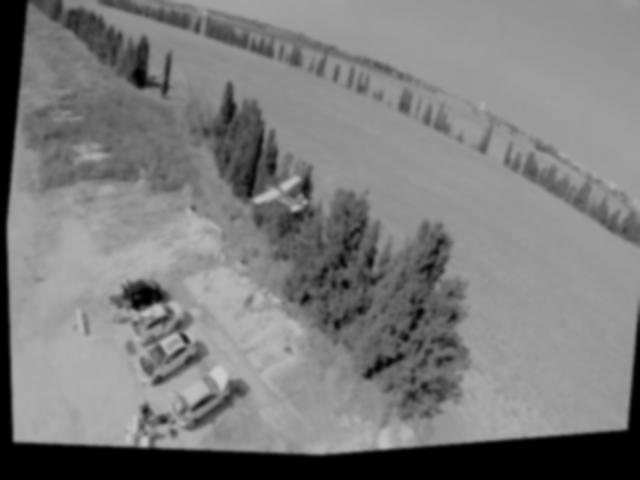hedef: (233, 159, 323, 239)
